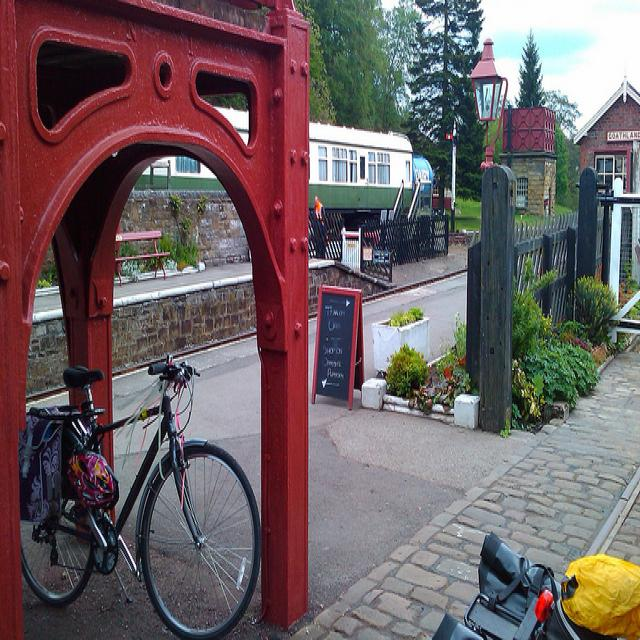motor: (435, 534, 579, 633)
